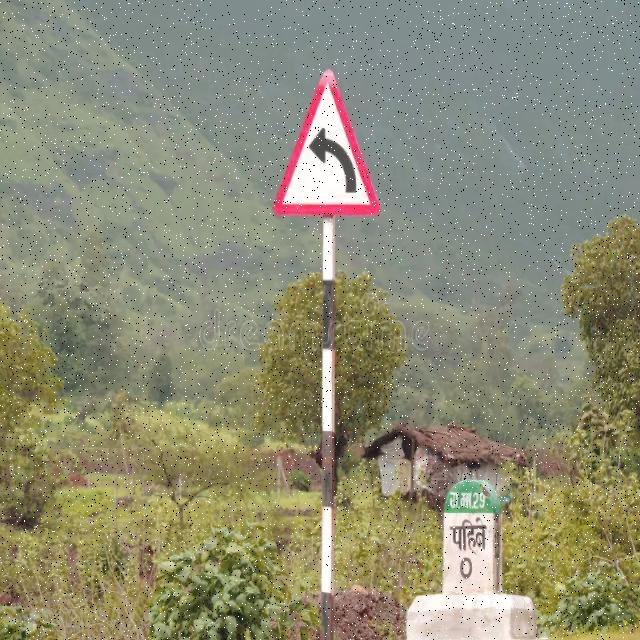left_hand_curve: (274, 63, 379, 218)
